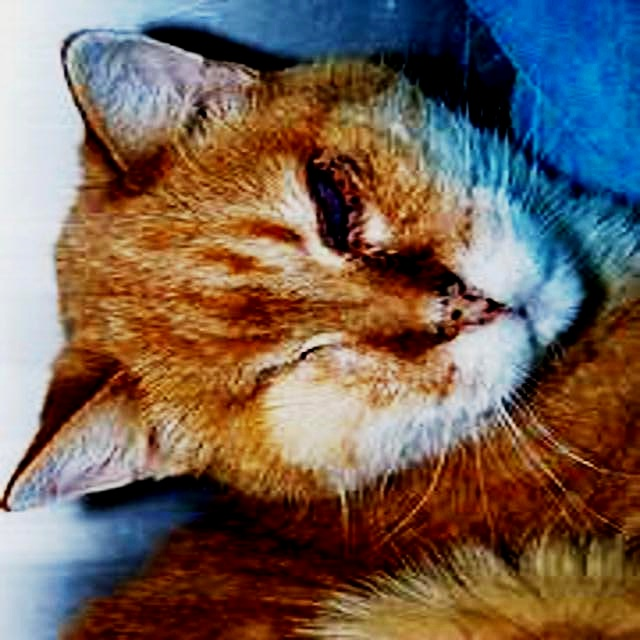eye_infection: (317, 161, 363, 241)
